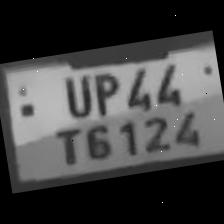1: (110, 113, 142, 158)
2: (135, 108, 172, 154)
4: (144, 54, 188, 108), (116, 60, 156, 113), (165, 102, 205, 152)
6: (76, 118, 115, 164)
P: (85, 65, 122, 117)
T: (46, 122, 85, 169)
U: (54, 69, 94, 122)
